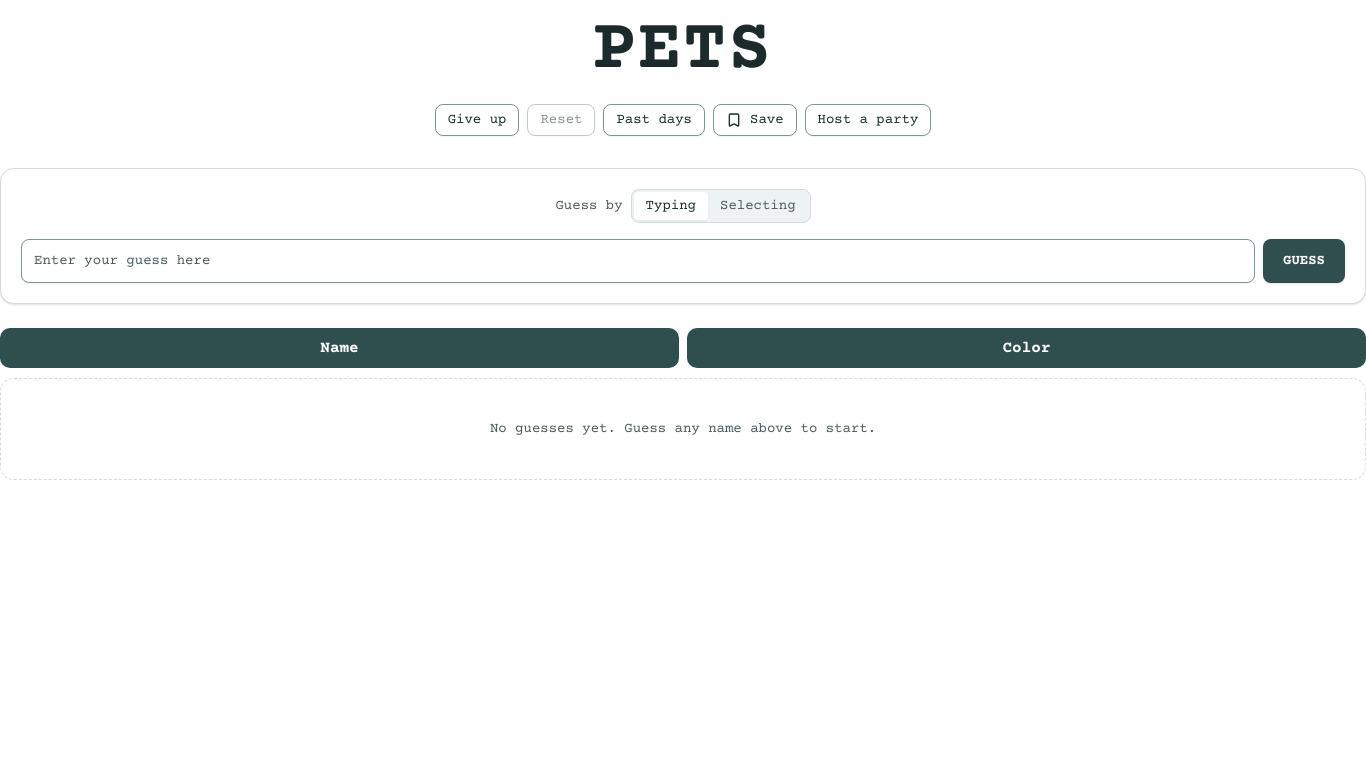
Test: PlayPage › reset asks first; Cancel keeps the board, Reset clears it
Expected: the text "No guesses yet. Guess any name above to start." is shown, [0, 378, 1365, 480]
Type "Bela" into the dropdown named "Name" at (638, 261), box [21, 239, 1255, 283]
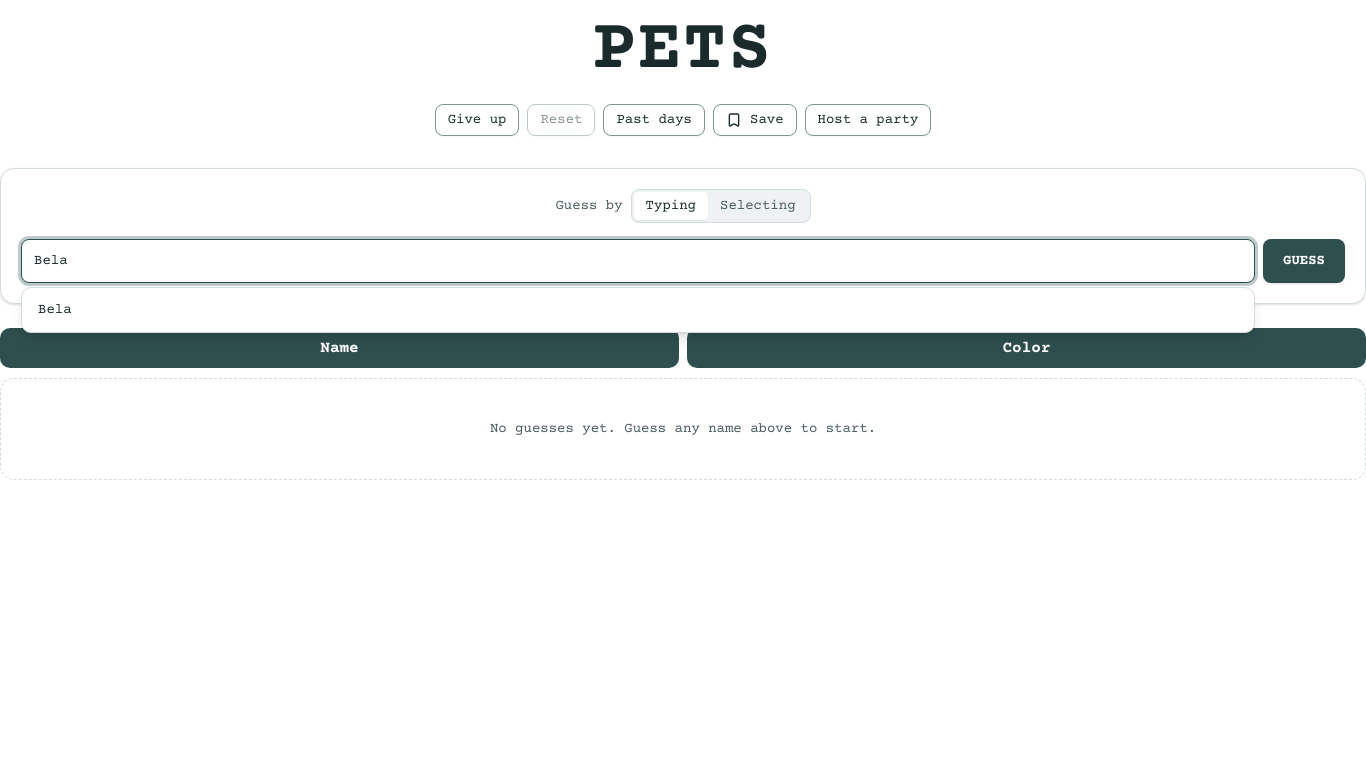
Click the button "Guess" at (1304, 261), box [1263, 239, 1345, 283]
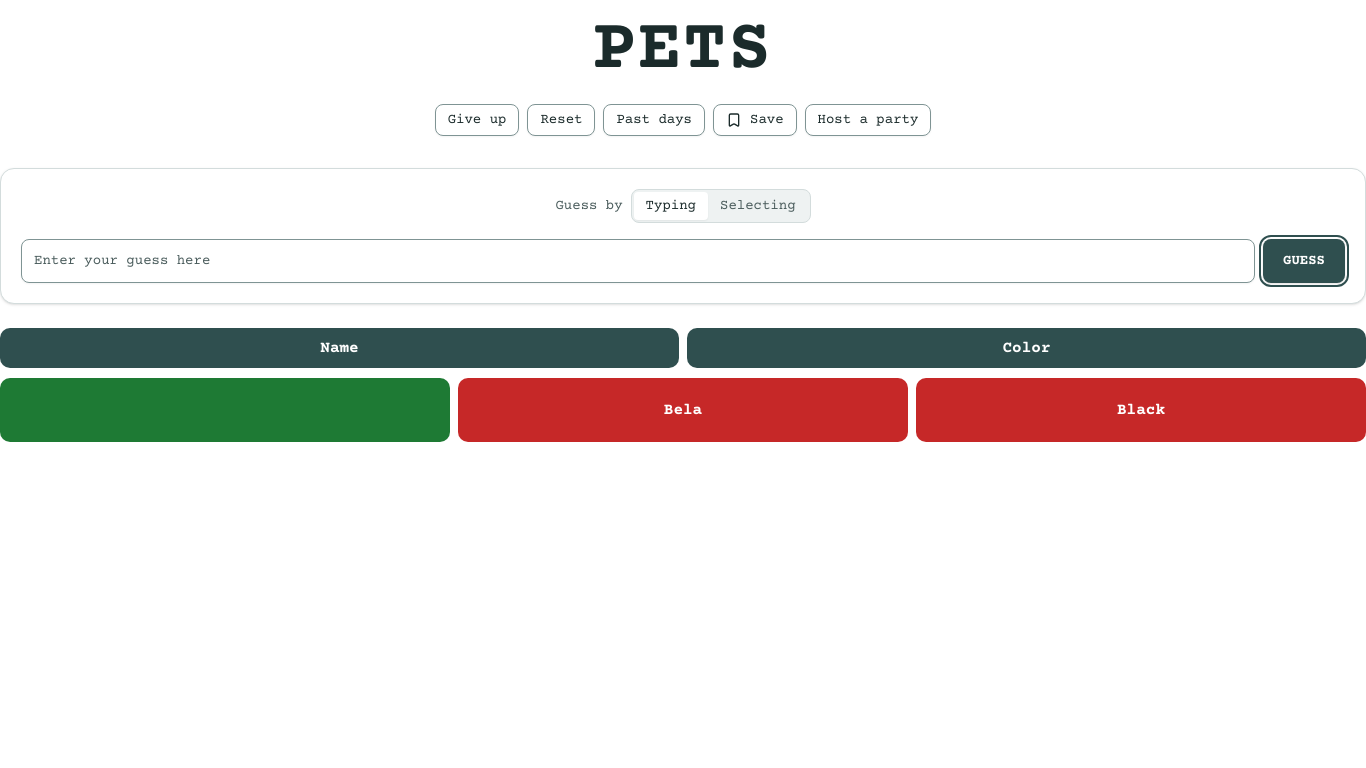
Click the button "Reset" at (562, 120), box [528, 104, 596, 136]
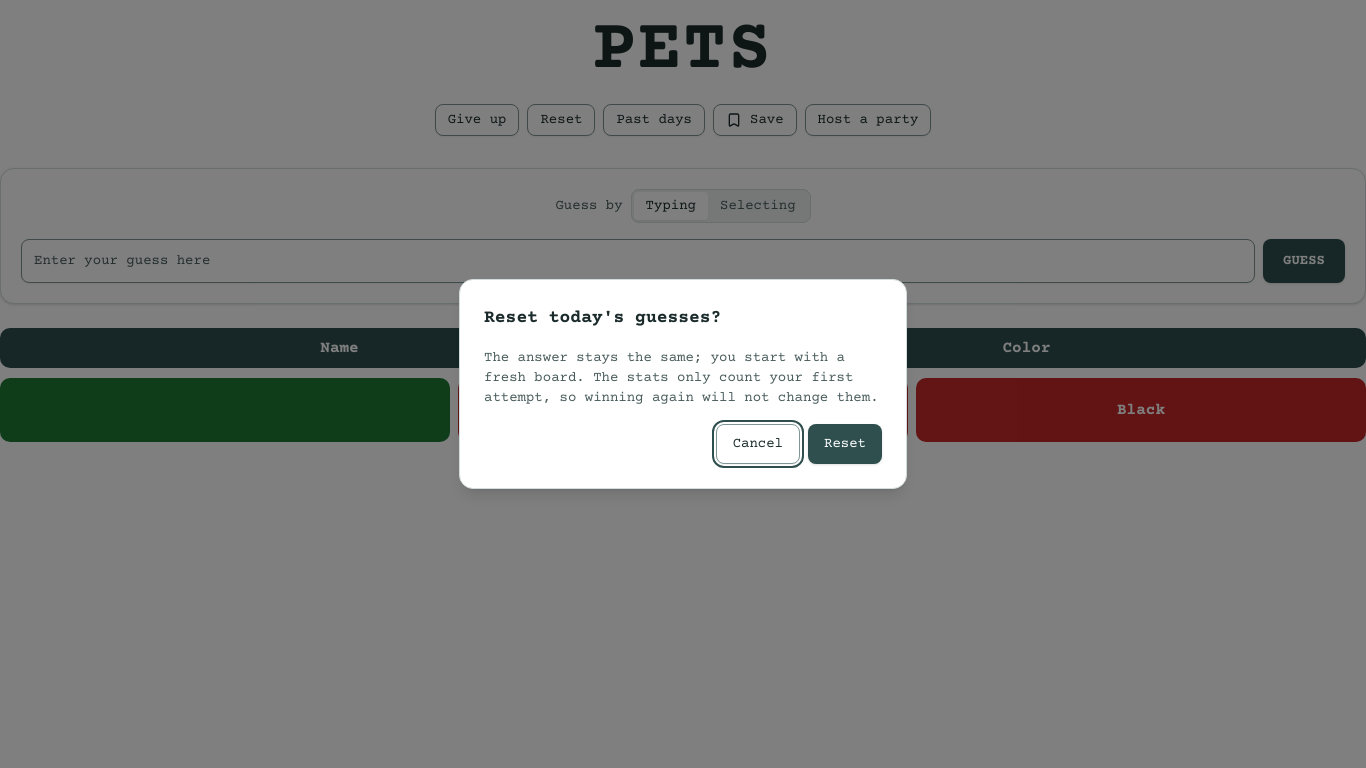
Click the button "Cancel" at (758, 444), box [716, 424, 800, 464]
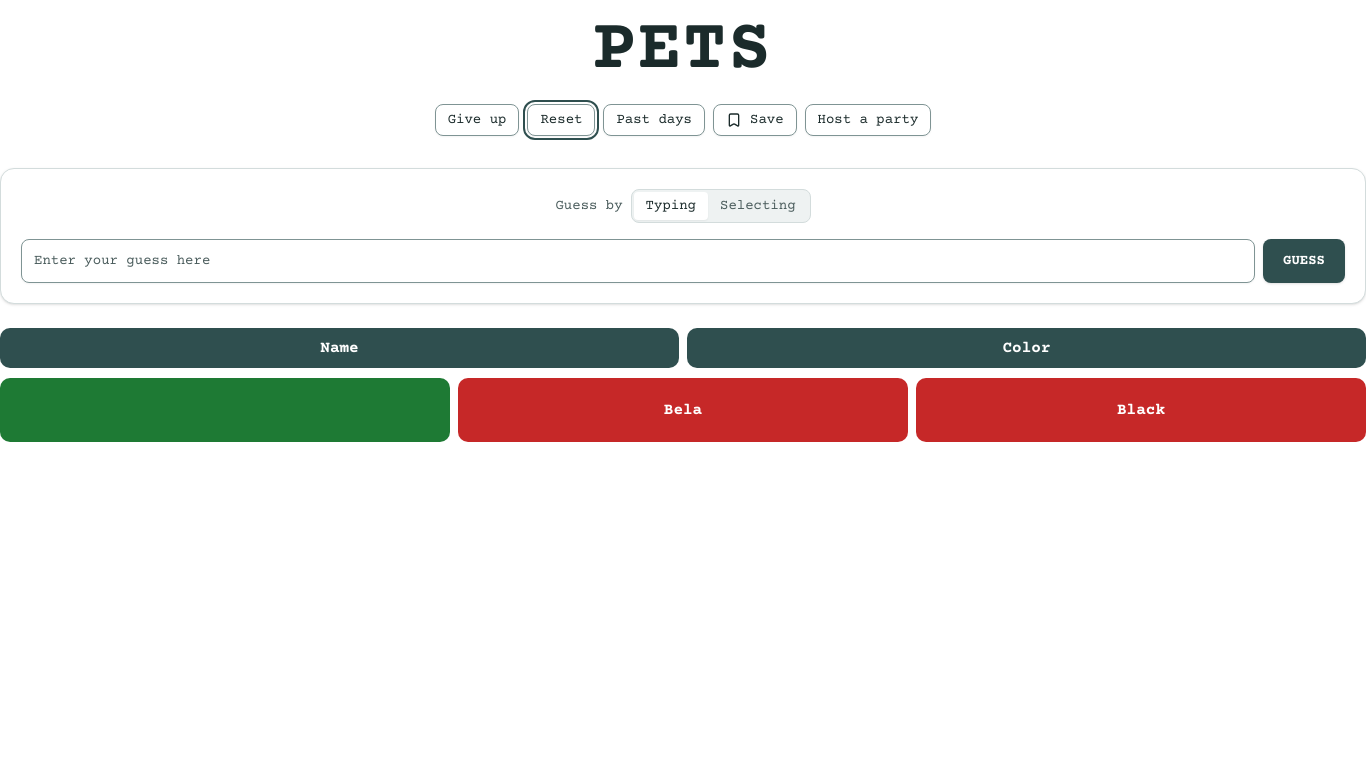
Click the button "Reset" at (562, 120), box [528, 104, 596, 136]
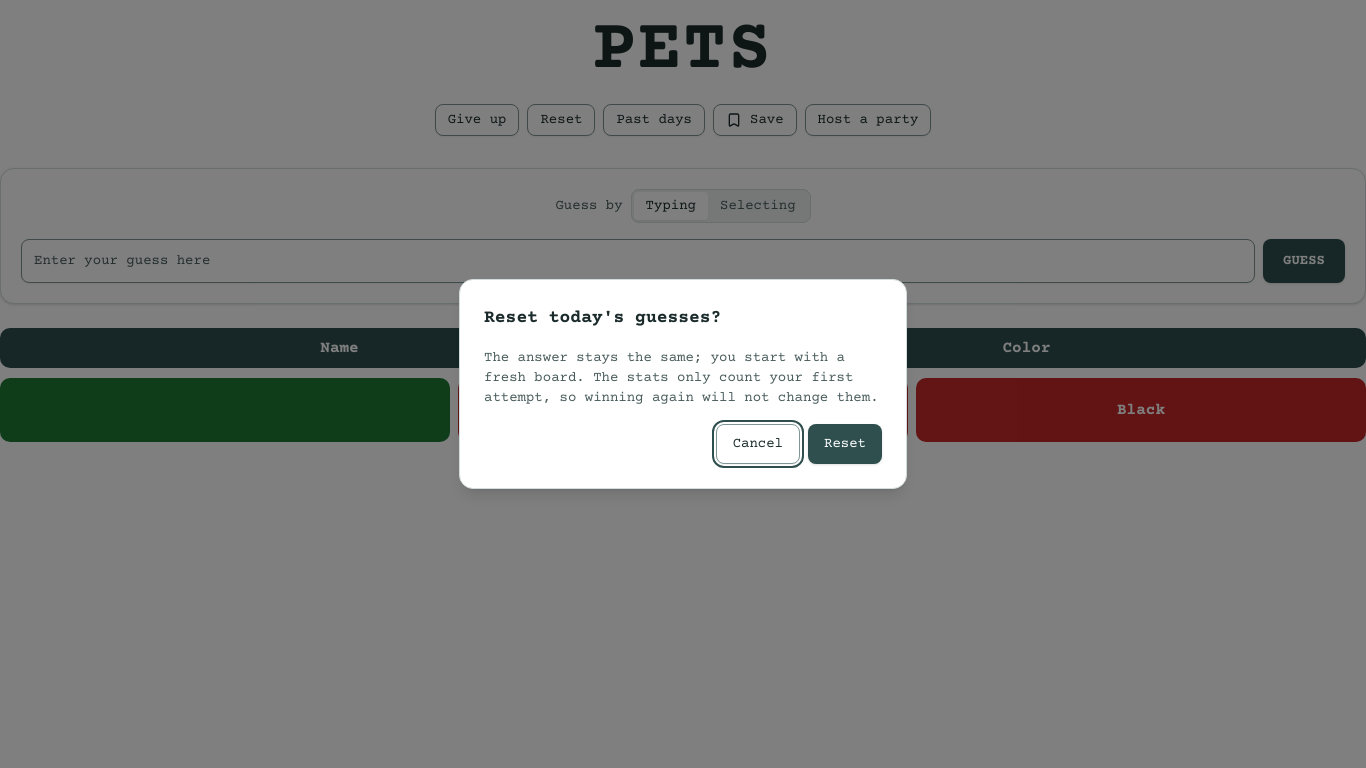
Expected: the dialog is shown, [459, 279, 907, 489]
Click the button "Reset" at (845, 444), box [808, 424, 882, 464]
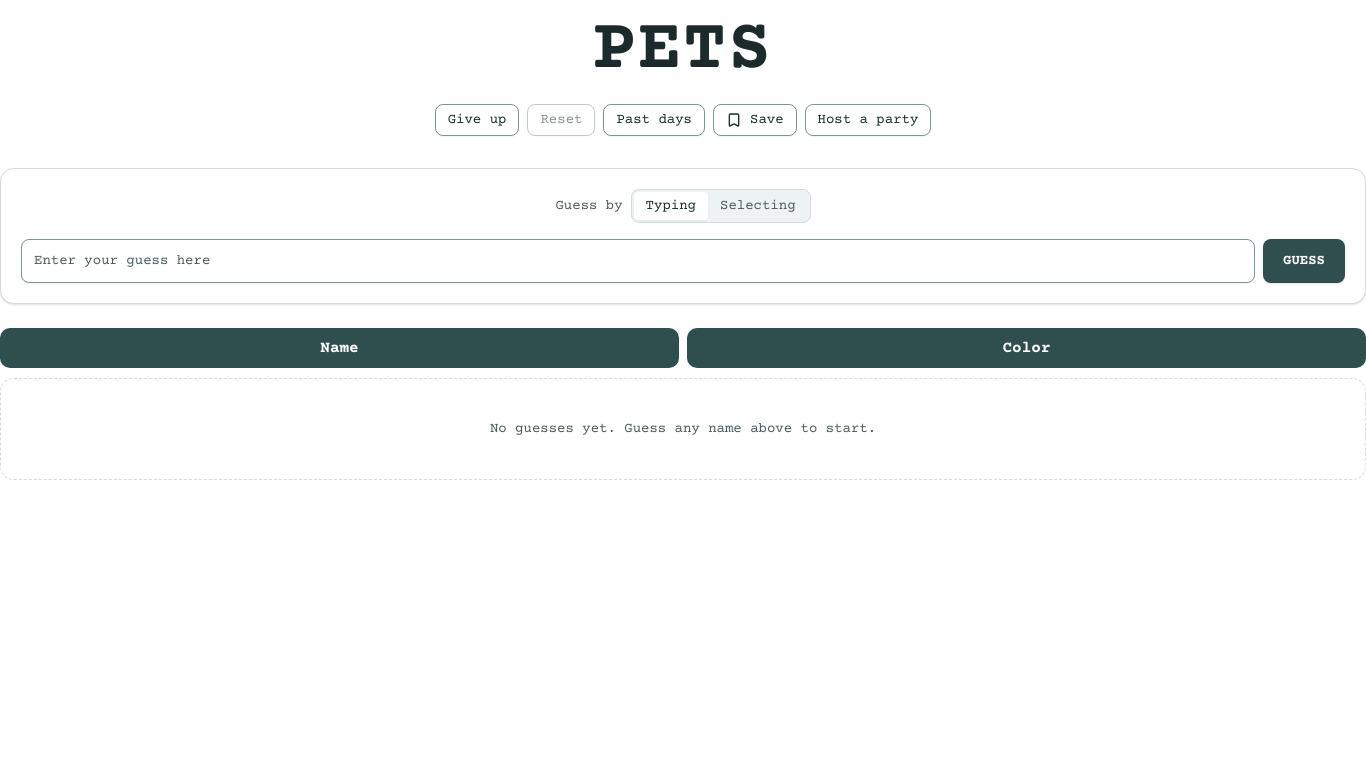
Expected: the text "No guesses yet. Guess any name above to start." is shown, [0, 378, 1365, 480]
